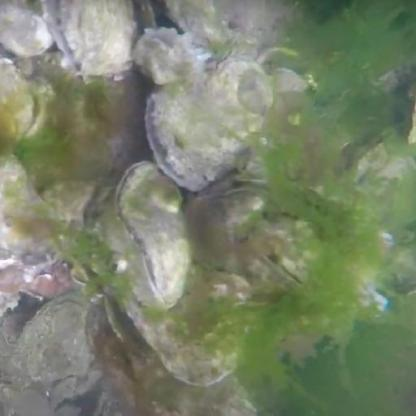3: (146, 57, 276, 188), (120, 161, 190, 303), (37, 0, 135, 80), (240, 218, 324, 295), (0, 60, 46, 146), (137, 25, 203, 84)
Oyster-Closed: (93, 210, 248, 384), (7, 296, 102, 385)
Oyster-Open: (0, 155, 62, 260), (354, 137, 416, 194)
